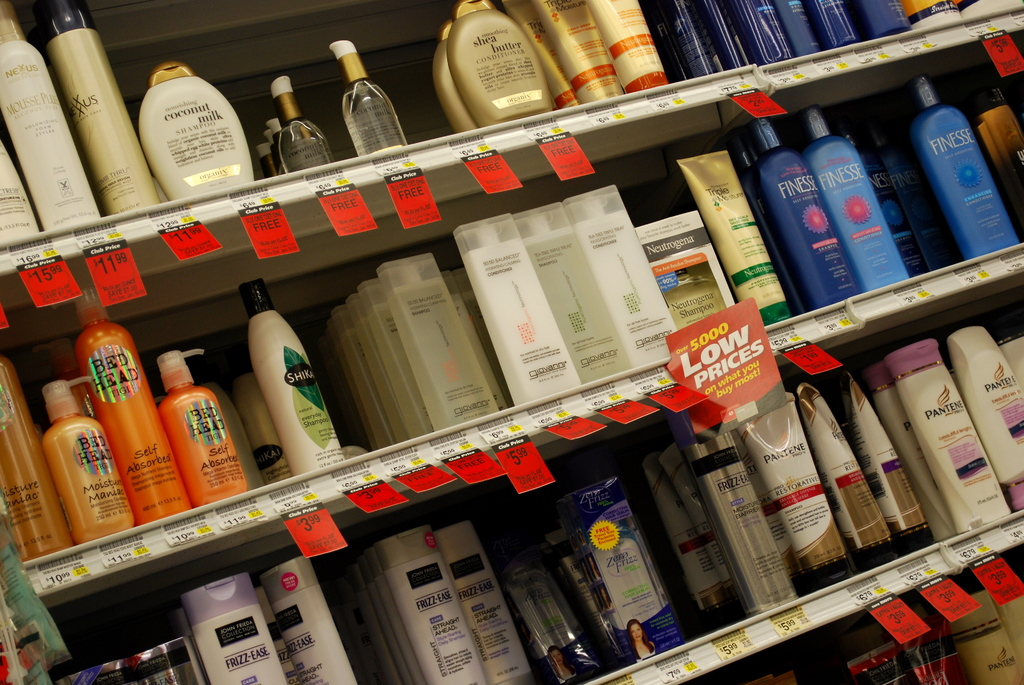can: (0, 0, 1024, 685), (0, 79, 1024, 566), (50, 322, 1024, 685), (0, 0, 1024, 246), (746, 575, 1024, 682)
